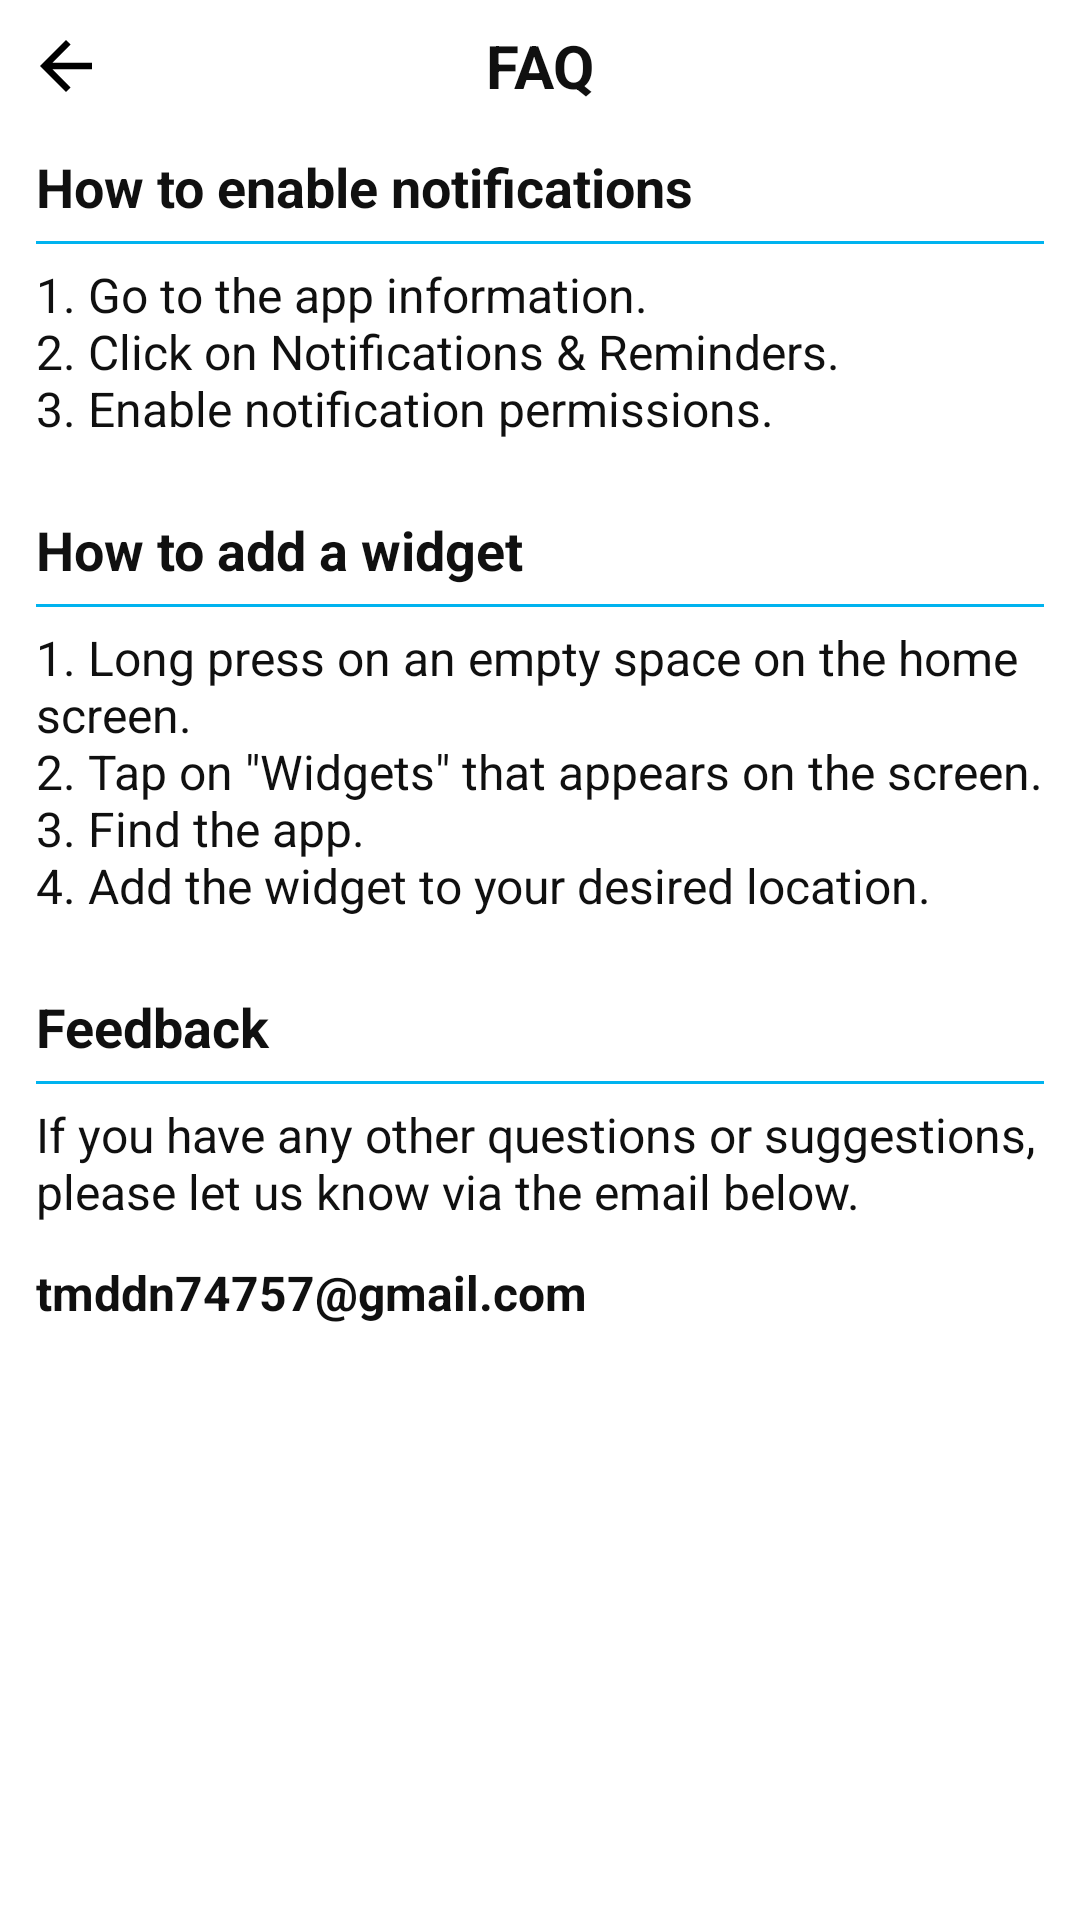

Locate icon controls on the screen. Image size 1080×1920, boxes as (x1, y1, x2, y2).
arrow back: (40, 40, 92, 92)
